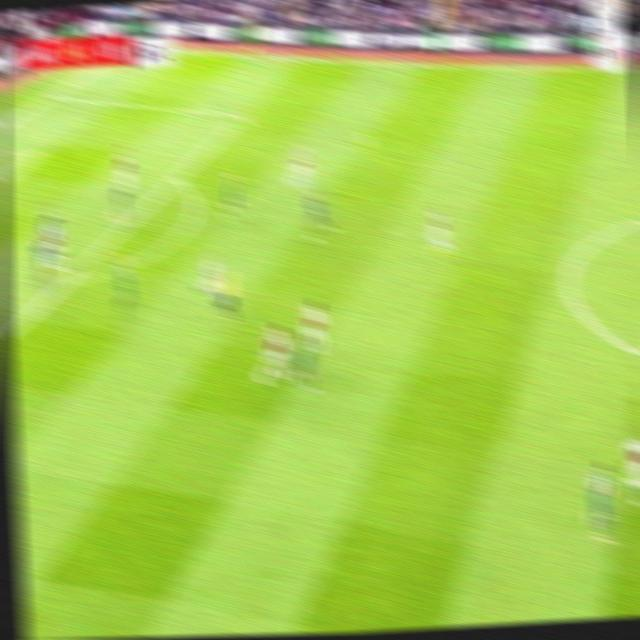bigarea_top_inner: (230, 105, 251, 124)
bigarea_top_outter: (39, 89, 58, 103)
bottom_arc_area_intersection: (54, 274, 72, 289)
smallarea_top_inner: (28, 146, 47, 161)
top_arc_area_intersection: (165, 170, 184, 186)
